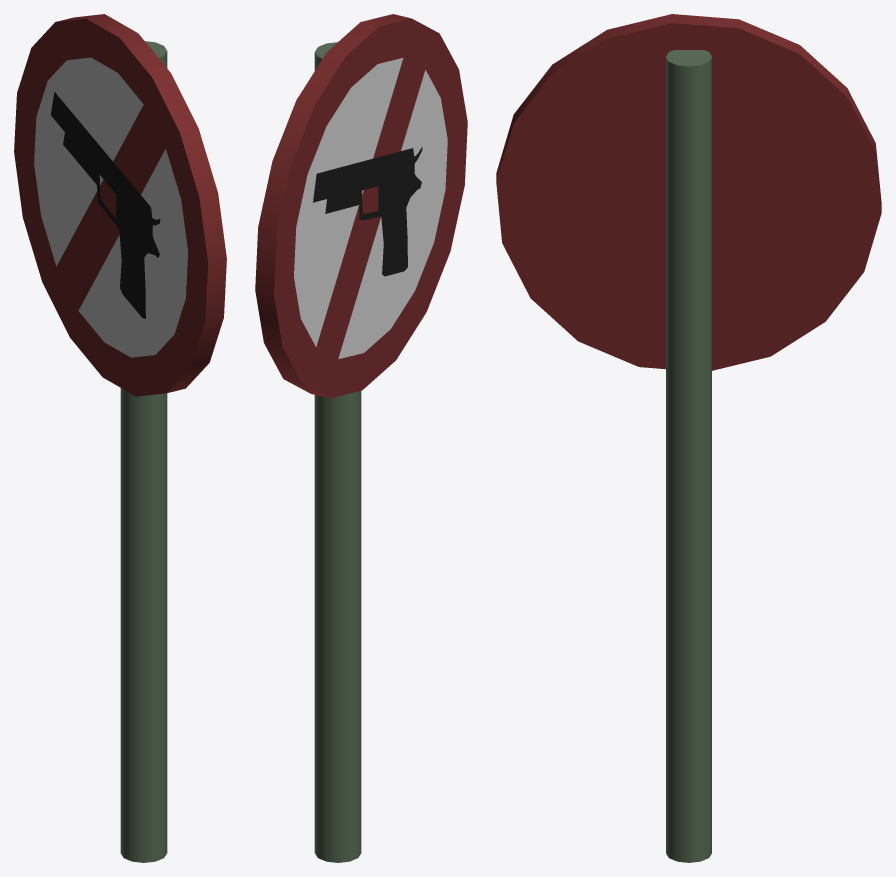
Rendered from HintSign.FBX.
3 views of the same model, side by side, from view 1: azimuth 30°, elevation 25°; view 2: azimuth 150°, elevation 25°; view 3: azimuth 270°, elevation 25° (orthographic).
Visible parts, largest first — view 1: HintSign; view 2: HintSign; view 3: HintSign.
Part boxes in pixels (x1=…): HintSign: x1=14, y1=14, x2=226, y2=862; HintSign: x1=255, y1=14, x2=467, y2=862; HintSign: x1=496, y1=14, x2=881, y2=862.
Size of the model in its own units: 17.68 by 258 by 110.
